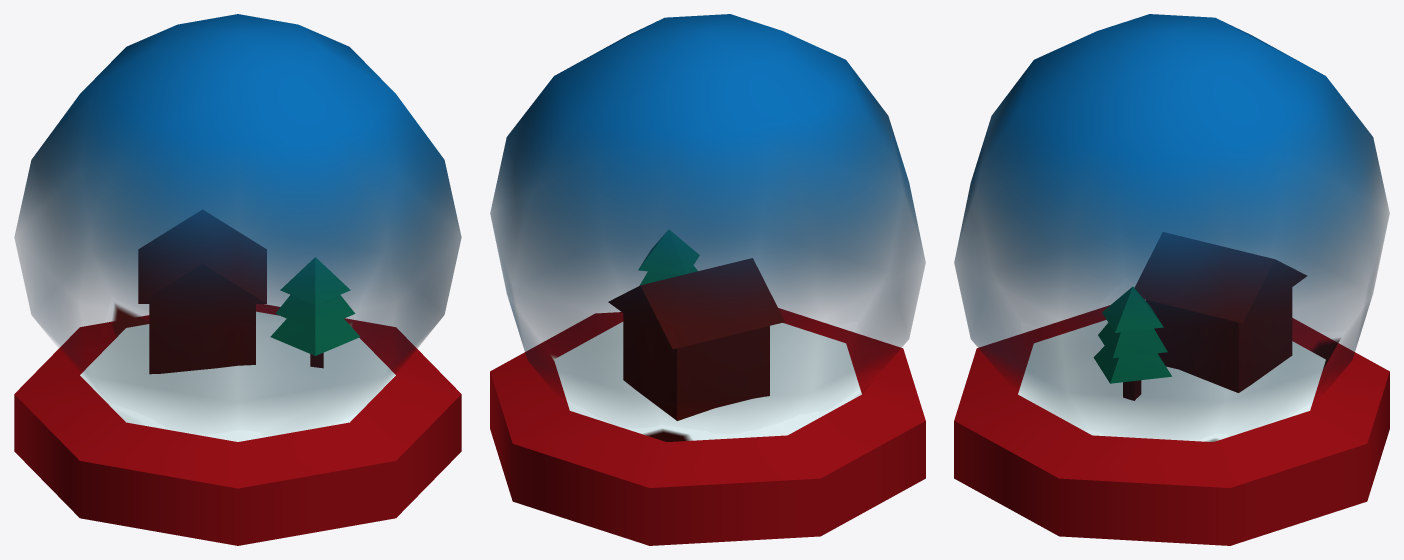
Rendered from SnowBall.glb.
3 renders of one model, left to right at view 1: azimuth 30°, elevation 25°; view 2: azimuth 150°, elevation 25°; view 3: azimuth 270°, elevation 25°, orthographic.
Visible parts, largest first — view 1: SnowBall; view 2: SnowBall; view 3: SnowBall.
Part boxes in pixels (x1,y1,x2,y2): SnowBall: [14, 14, 461, 545]; SnowBall: [490, 14, 925, 545]; SnowBall: [954, 14, 1389, 545].
Bounding box in the file's own units: 0.4252 × 0.4525 × 0.4252.
Materials: 1 (1 with a texture image).
